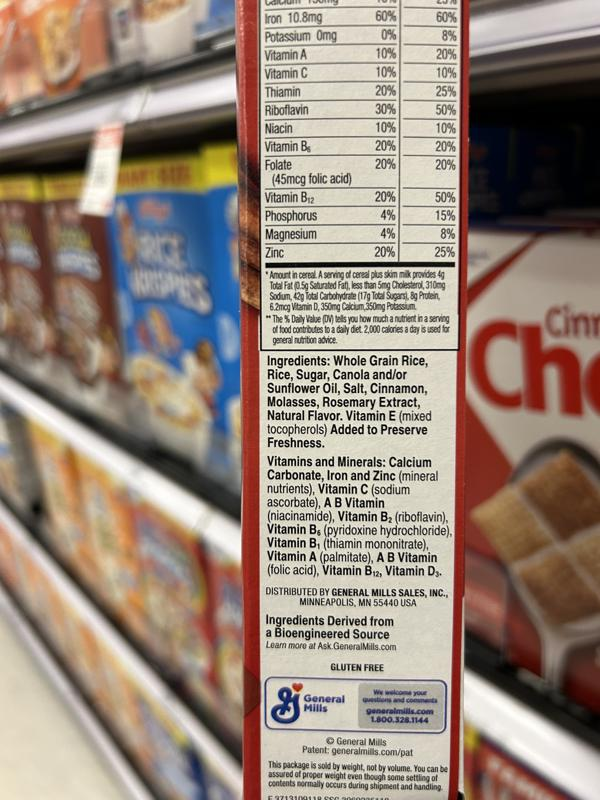ingredients: (264, 353, 437, 450)
